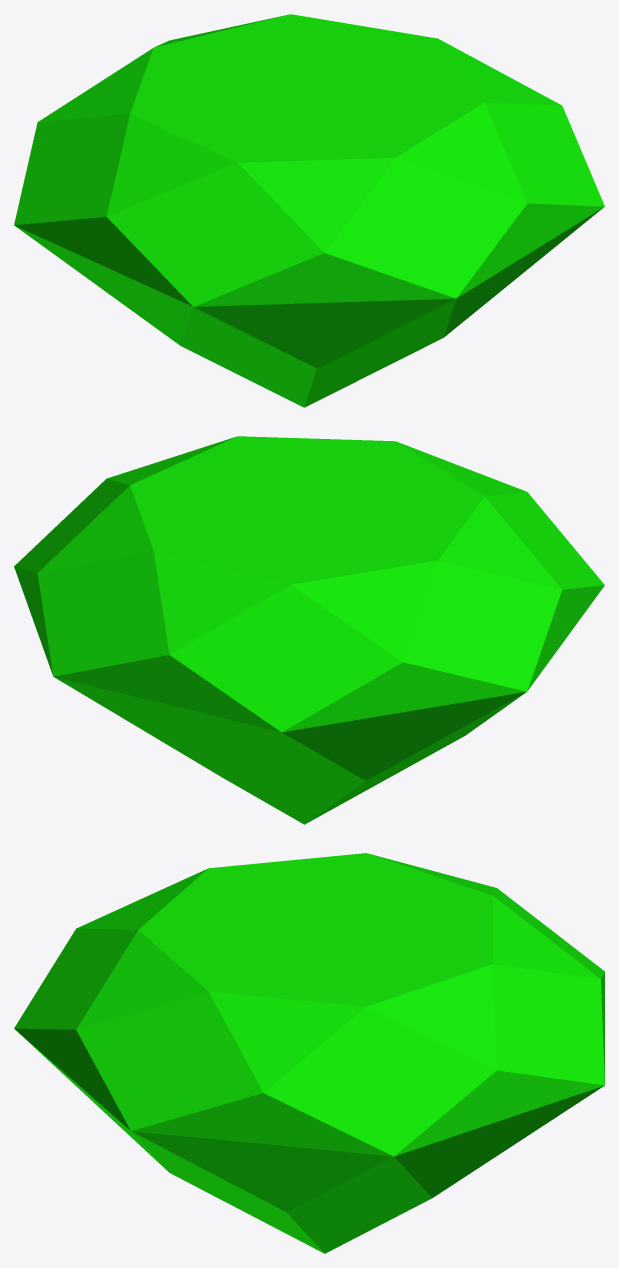
The model's file is Gem_002.fbx.
3 views of the same model, one above another, from view 1: azimuth 30°, elevation 25°; view 2: azimuth 150°, elevation 25°; view 3: azimuth 270°, elevation 25° (orthographic). The views are drawn at different scales.
Parts seen in each view (by area): view 1: Gem.002; view 2: Gem.002; view 3: Gem.002.
Boxes of the visible parts, box(x1,y1,x2,y2) form: Gem.002: box(14, 14, 604, 407); Gem.002: box(14, 436, 604, 824); Gem.002: box(14, 853, 604, 1253).
Size of the model in its own units: 195 by 115 by 190.
